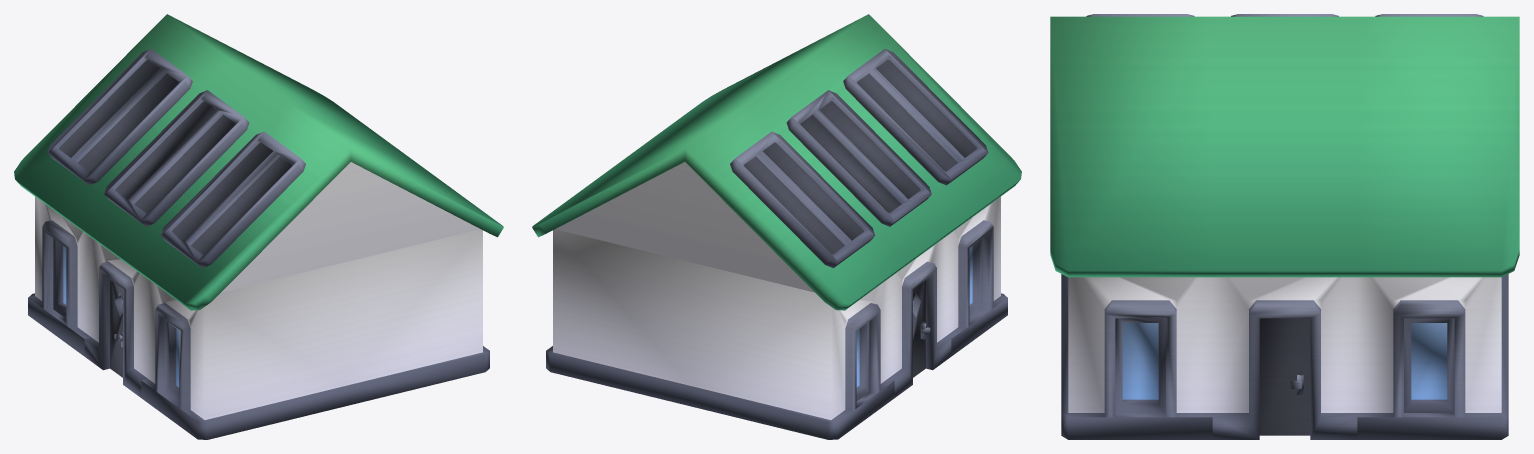
File: n1_building-type-h_lev1.glb
3 views of the same model, side by side, from view 1: azimuth 30°, elevation 25°; view 2: azimuth 150°, elevation 25°; view 3: azimuth 270°, elevation 25° (orthographic). The views are drawn at different scales.
Parts seen in each view (by area): view 1: n1_building-type-h_lev1; view 2: n1_building-type-h_lev1; view 3: n1_building-type-h_lev1.
Part boxes in pixels (box(x1,y1,x2,y2)): n1_building-type-h_lev1: box(14, 14, 503, 439); n1_building-type-h_lev1: box(532, 14, 1021, 439); n1_building-type-h_lev1: box(1050, 14, 1519, 439).
Size of the model in its own units: 7.1 by 5.55 by 7.1.
Materials: 1 (1 with a texture image).
